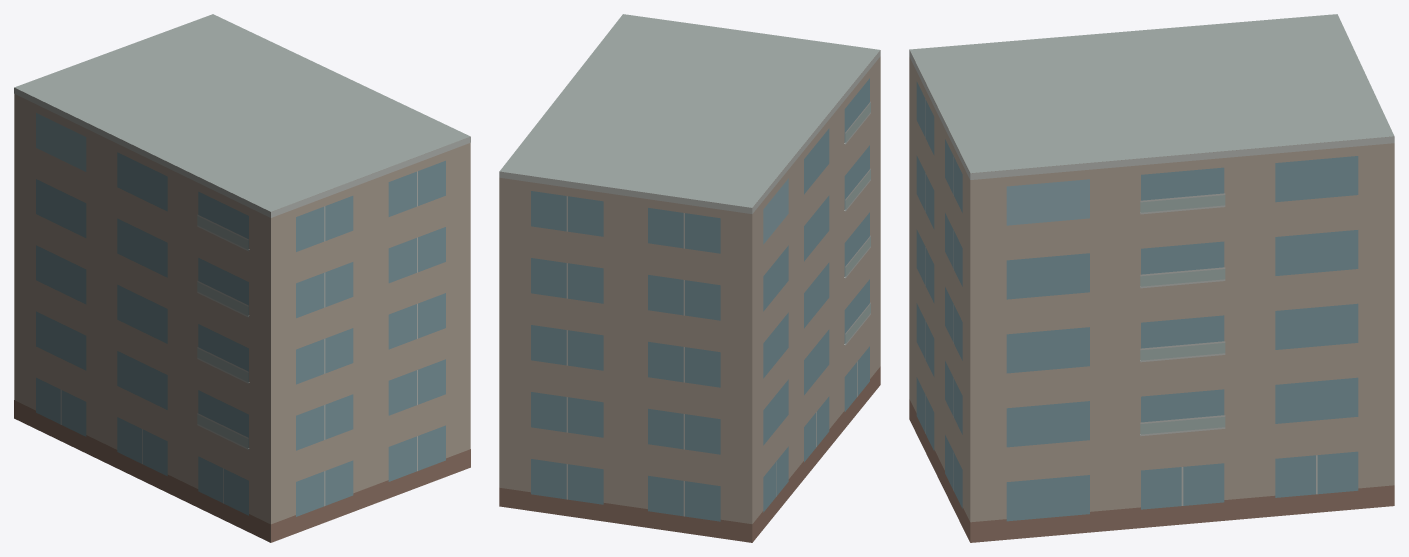
The model's file is survey-upis-32526562.glb.
3 renders of one model, left to right at view 1: azimuth 30°, elevation 25°; view 2: azimuth 150°, elevation 25°; view 3: azimuth 270°, elevation 25°, orthographic. The views are drawn at different scales.
Visible parts, largest first — view 1: survey-upis-32526562.tmp; view 2: survey-upis-32526562.tmp; view 3: survey-upis-32526562.tmp.
Part boxes in pixels (x1,y1,x2,y2): survey-upis-32526562.tmp: [14, 14, 470, 542]; survey-upis-32526562.tmp: [499, 14, 880, 542]; survey-upis-32526562.tmp: [909, 14, 1394, 542].
Bounding box in the file's own units: 12.11 × 13.1 × 15.6.
